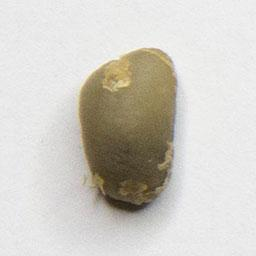peaberry: (73, 43, 183, 209)
